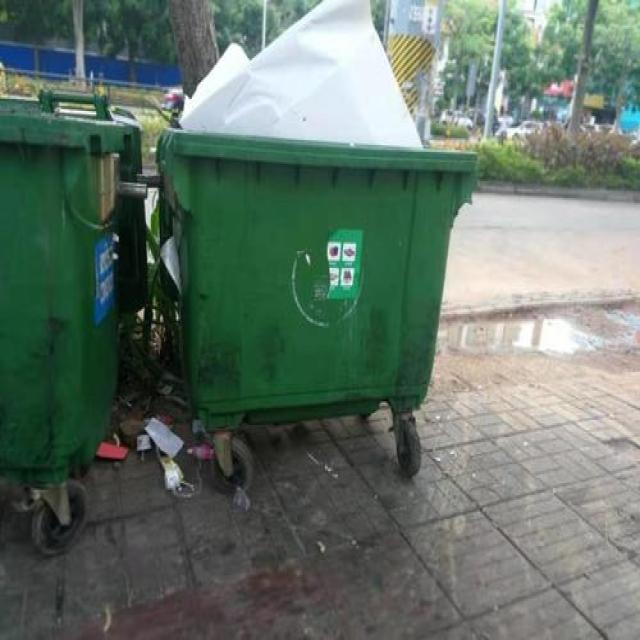garbage: (96, 414, 253, 508)
garbage_bin: (0, 87, 147, 480)
overflow: (157, 2, 475, 423)
